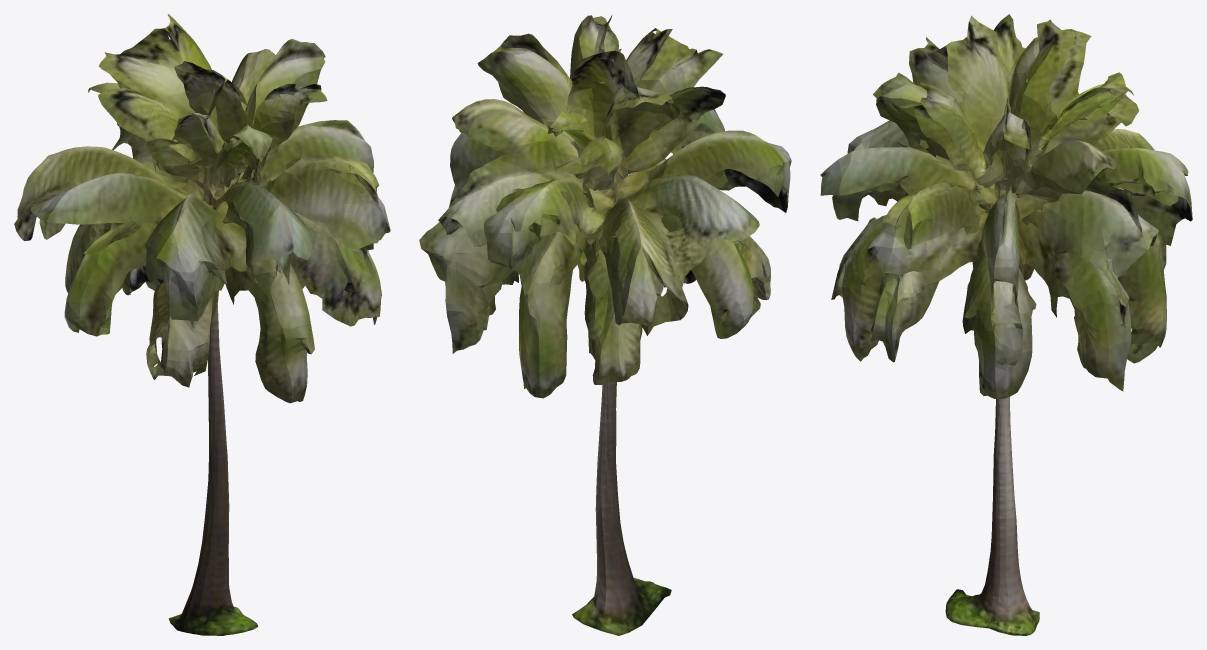
Rendered from tree.glb.
3 renders of one model, left to right at view 1: azimuth 30°, elevation 25°; view 2: azimuth 150°, elevation 25°; view 3: azimuth 270°, elevation 25°, orthographic.
Parts seen in each view (by area): view 1: world; view 2: world; view 3: world.
Part boxes in pixels (x1=…): world: x1=14, y1=14, x2=390, y2=635; world: x1=419, y1=15, x2=791, y2=635; world: x1=820, y1=14, x2=1192, y2=635.
Size of the model in its own units: 0.5581 by 0.9982 by 0.5715.
Materials: 1 (1 with a texture image).
